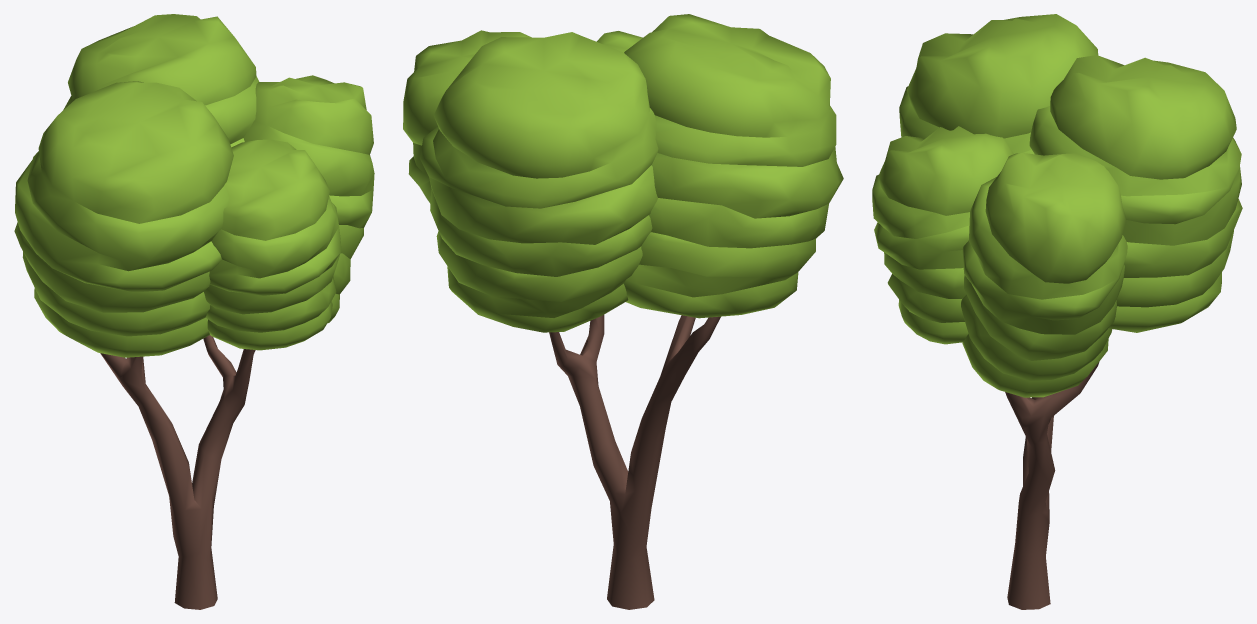
File: fabulous_tree_016.glb
The picture shows the model from 3 angles, left to right: view 1: azimuth 30°, elevation 25°; view 2: azimuth 150°, elevation 25°; view 3: azimuth 270°, elevation 25°; orthographic projection. The views are drawn at different scales.
Parts seen in each view (by area): view 1: fabulous_tree_016; view 2: fabulous_tree_016; view 3: fabulous_tree_016.
Part boxes in pixels (x1=…): fabulous_tree_016: x1=14, y1=14, x2=374, y2=609; fabulous_tree_016: x1=403, y1=14, x2=843, y2=609; fabulous_tree_016: x1=872, y1=14, x2=1242, y2=609.
Bounding box in the file's own units: 6.03 × 8.68 × 5.34.
Materials: 1 (1 with a texture image).
